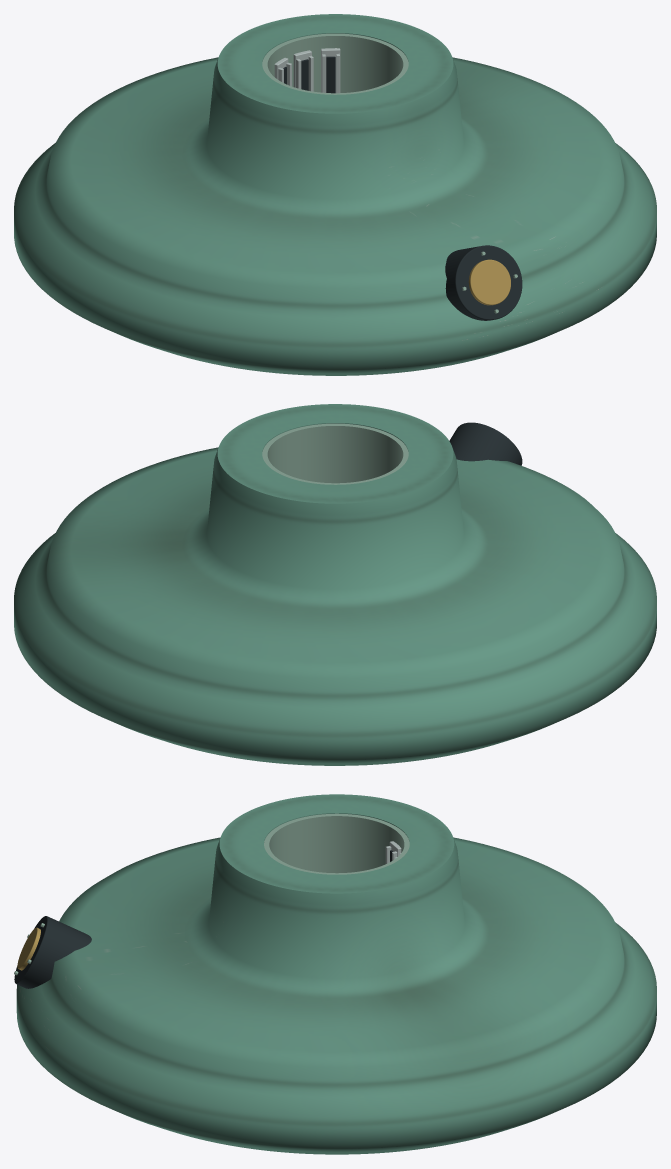
3 views of the same model, one above another, from view 1: azimuth 30°, elevation 25°; view 2: azimuth 150°, elevation 25°; view 3: azimuth 270°, elevation 25° (orthographic).
Visible parts, largest first — view 1: RI11 stepped launch housing, RI11 embedded open port liner, RI11 front fitting cast retaining bezel, RI11 front brass inset fitting; view 2: RI11 stepped launch housing, RI11 embedded open port liner, RI11 front fitting cast retaining bezel; view 3: RI11 stepped launch housing, RI11 embedded open port liner, RI11 front fitting cast retaining bezel.
Part boxes in pixels (x1,y1,x2,y2): RI11 stepped launch housing: (14, 14, 656, 375); RI11 embedded open port liner: (262, 33, 408, 94); RI11 front fitting cast retaining bezel: (445, 245, 522, 320); RI11 front brass inset fitting: (468, 259, 510, 305); RI11 stepped launch housing: (14, 404, 656, 765); RI11 embedded open port liner: (262, 423, 408, 484); RI11 front fitting cast retaining bezel: (449, 422, 522, 465); RI11 stepped launch housing: (16, 794, 656, 1154); RI11 embedded open port liner: (264, 813, 409, 874); RI11 front fitting cast retaining bezel: (14, 916, 91, 988).
Size of the model in its own units: 1.8 by 0.6 by 1.81.
6 materials, 2 textured.
